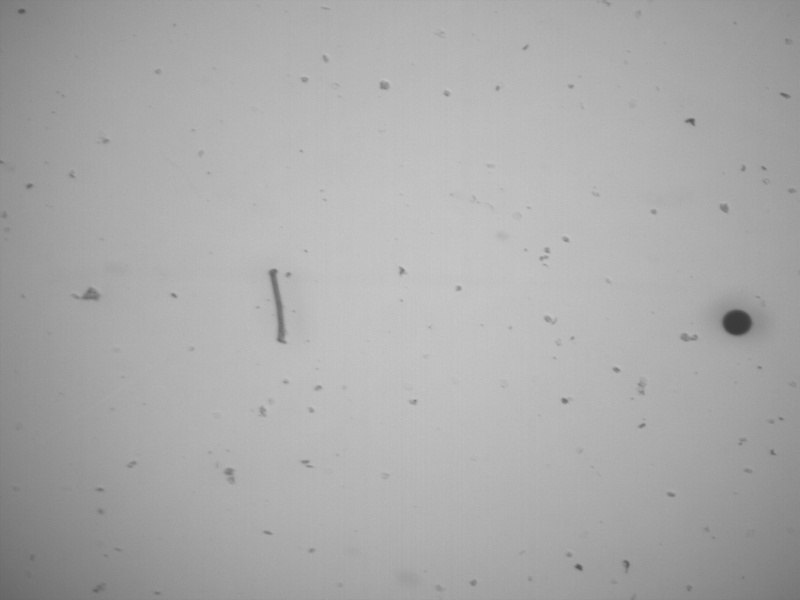bead: (721, 308, 754, 336)
fiber: (266, 267, 290, 344)
